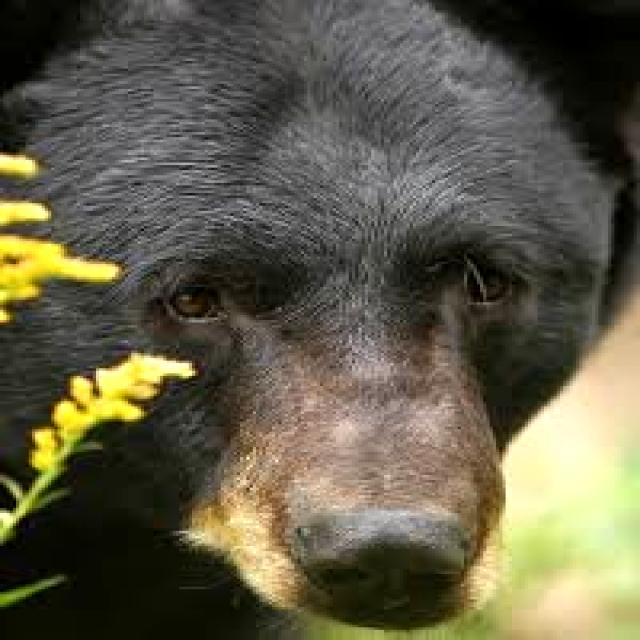bear: (56, 0, 632, 633)
